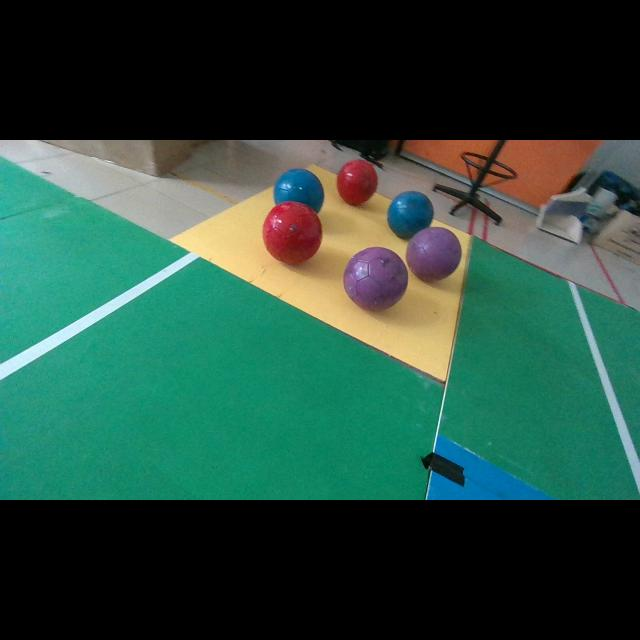B: (388, 191, 434, 238), (274, 169, 324, 212)
P: (344, 248, 408, 311), (406, 228, 461, 282)
R: (262, 201, 322, 265), (338, 160, 378, 205)
